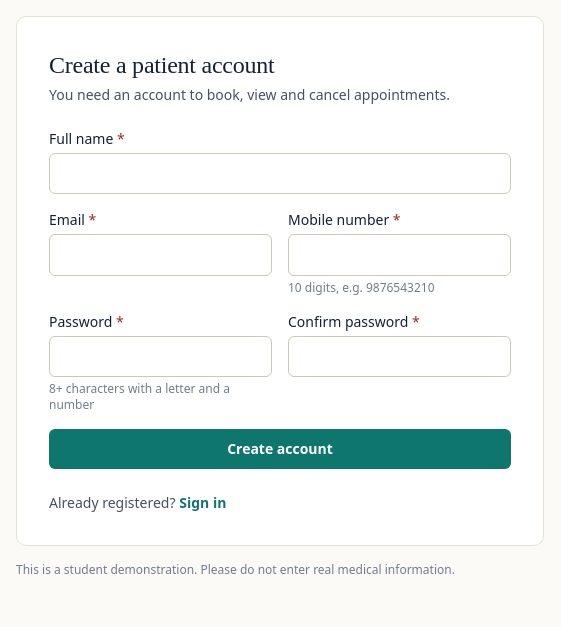
Test: Registration form › reports every invalid field and mismatched passwords
Type "12345" into the field labelled "Mobile number *".
click(400, 255); type("12345")  # box top-left (288, 234), bottom-right (511, 276)
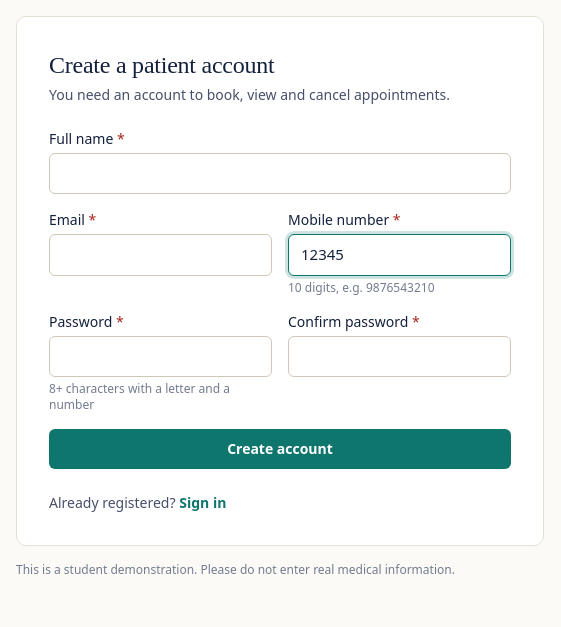
Type "abcdefgh" into the password field labelled "Password *".
click(160, 356); type("abcdefgh")  # box top-left (49, 336), bottom-right (272, 377)
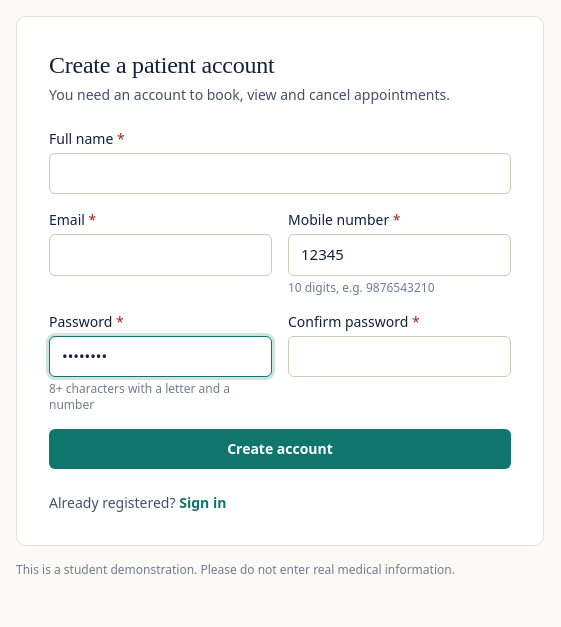
Type "different1" into the password field labelled "Confirm password *".
click(400, 356); type("different1")  # box top-left (288, 336), bottom-right (511, 377)
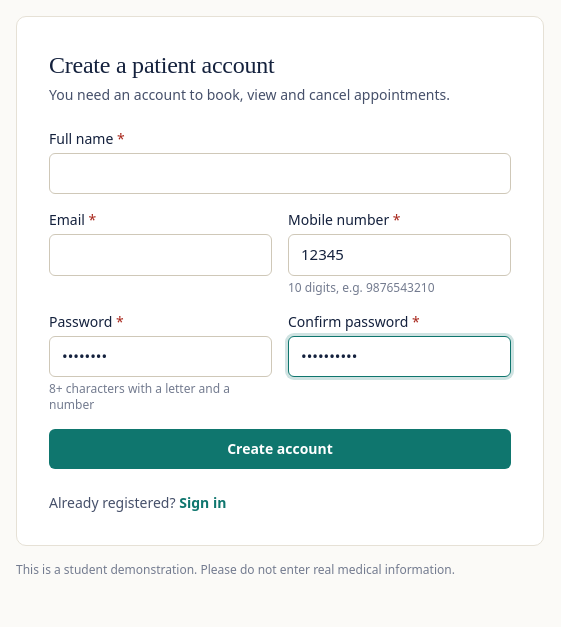
Click the button "Create account".
click(280, 449)  # box top-left (49, 429), bottom-right (511, 469)
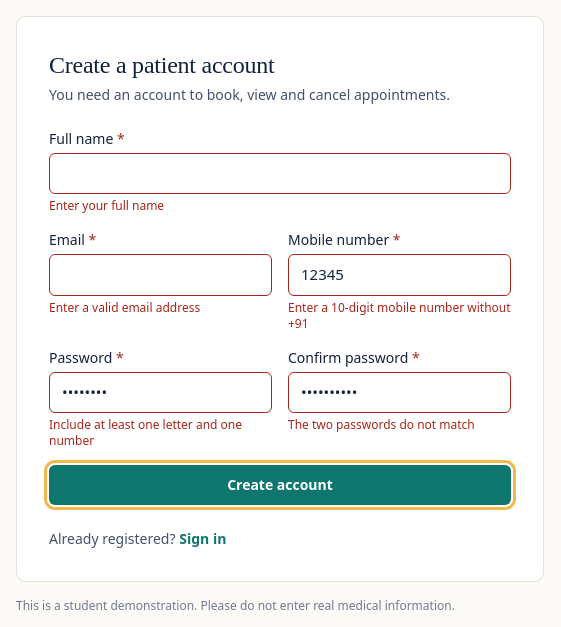
Check: the text "Enter your full name" is shown, box top-left (49, 197), bottom-right (164, 214)
Check: the text "Enter a 10-digit mobile number without +91" is shown, box top-left (288, 300), bottom-right (511, 332)
Check: the text "Include at least one letter and one number" is shown, box top-left (49, 417), bottom-right (272, 449)
